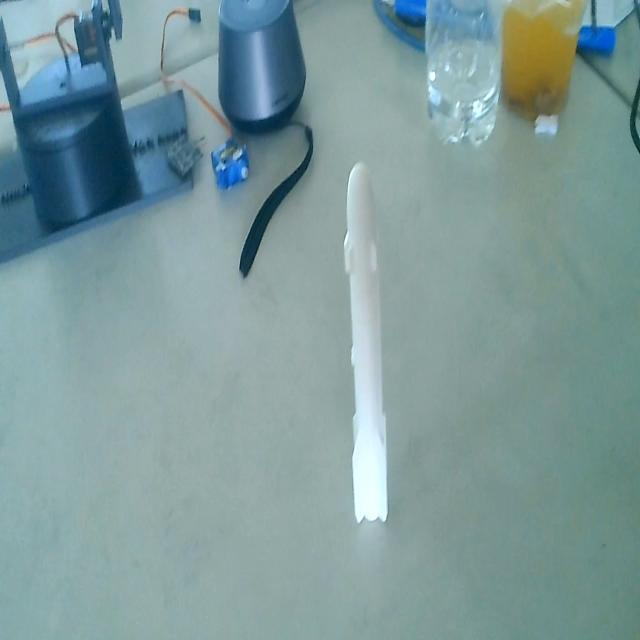Rocket: (340, 158, 392, 531)
